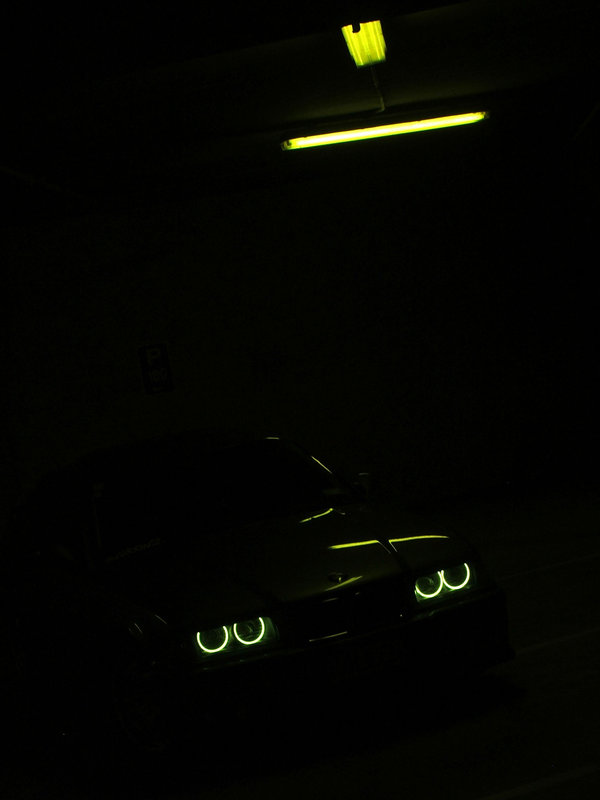car: (7, 398, 541, 766)
